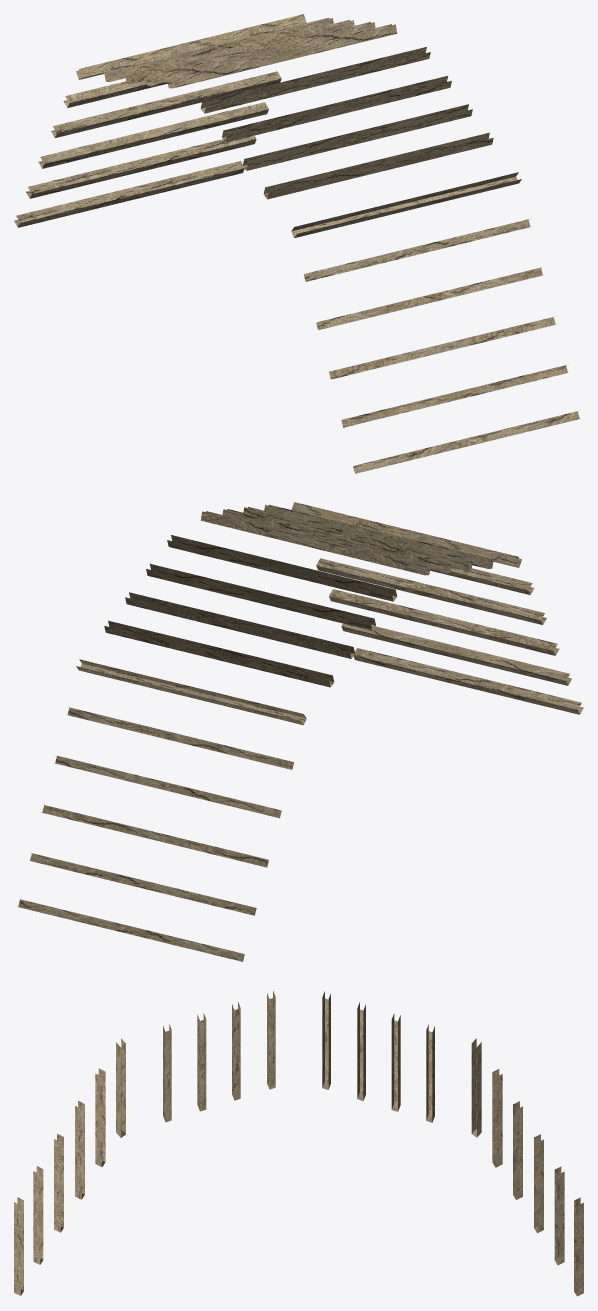
File: roofTimbers_01.FBX
The picture shows the model from 3 angles, top to bottom: view 1: azimuth 30°, elevation 25°; view 2: azimuth 150°, elevation 25°; view 3: azimuth 270°, elevation 25°; orthographic projection. The views are drawn at different scales.
Parts seen in each view (by area): view 1: roofTimbers_01; view 2: roofTimbers_01; view 3: roofTimbers_01.
Part boxes in pixels (x1=…): roofTimbers_01: x1=14, y1=14, x2=579, y2=473; roofTimbers_01: x1=17, y1=502, x2=583, y2=961; roofTimbers_01: x1=14, y1=991, x2=583, y2=1296.
Bounding box in the file's own units: 419 × 465 × 1115.
